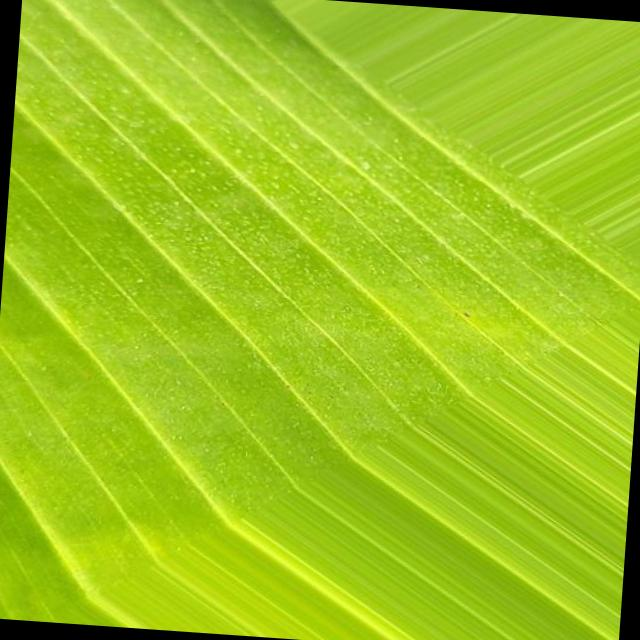Banana_Healthy: (147, 111, 496, 519)
